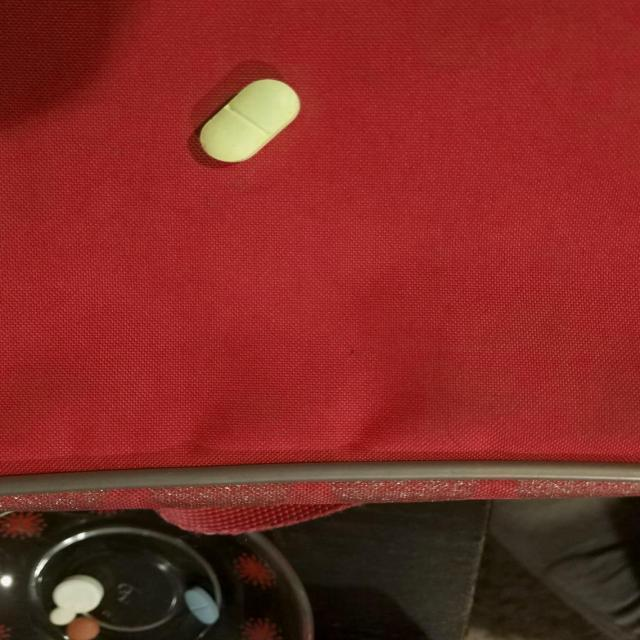pill: (184, 77, 316, 166)
